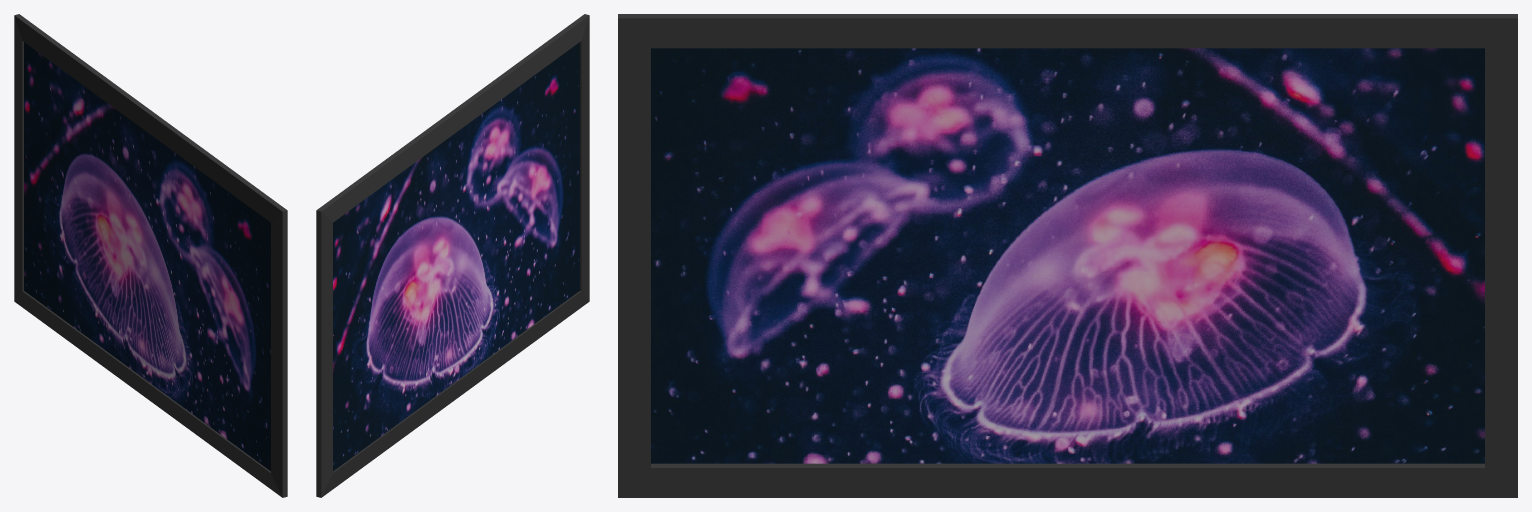
File: Painting_JellyFish2.fbx
The picture shows the model from 3 angles, left to right: view 1: azimuth 30°, elevation 25°; view 2: azimuth 150°, elevation 25°; view 3: azimuth 270°, elevation 25°; orthographic projection. The views are drawn at different scales.
Visible parts, largest first — view 1: jellyfish2, PaintingFrame1; view 2: jellyfish2, PaintingFrame1; view 3: jellyfish2, PaintingFrame1.
Part boxes in pixels (x1,y1,x2,y2): jellyfish2: (24, 42, 270, 471); PaintingFrame1: (14, 14, 287, 497); jellyfish2: (333, 42, 579, 471); PaintingFrame1: (316, 14, 589, 497); jellyfish2: (651, 48, 1484, 463); PaintingFrame1: (618, 14, 1517, 497).
Bounding box in the file's own units: 4 × 160 × 272.
